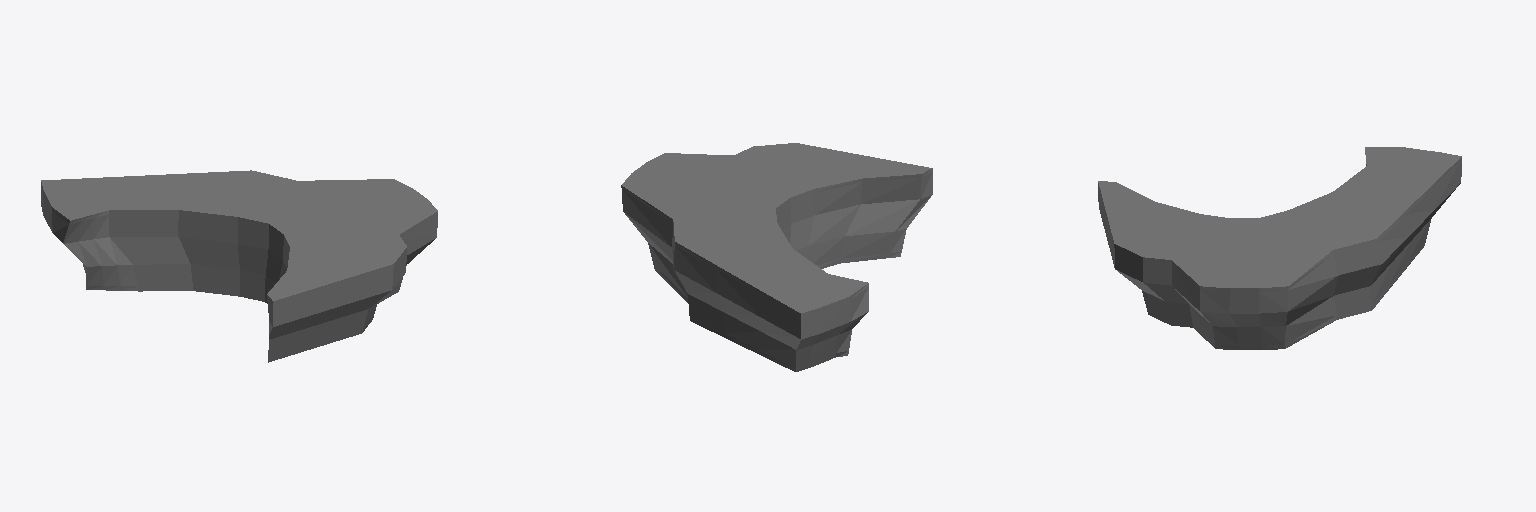
The model's file is rock031.obj.
3 views of the same model, side by side, from view 1: azimuth 30°, elevation 25°; view 2: azimuth 150°, elevation 25°; view 3: azimuth 270°, elevation 25° (orthographic).
Parts seen in each view (by area): view 1: pCube137; view 2: pCube137; view 3: pCube137.
Boxes of the visible parts, box(x1,y1,x2,y2) form: pCube137: box(41, 170, 437, 362); pCube137: box(621, 143, 932, 371); pCube137: box(1098, 147, 1461, 349).
Bounding box in the file's own units: 1960 × 499 × 2103.